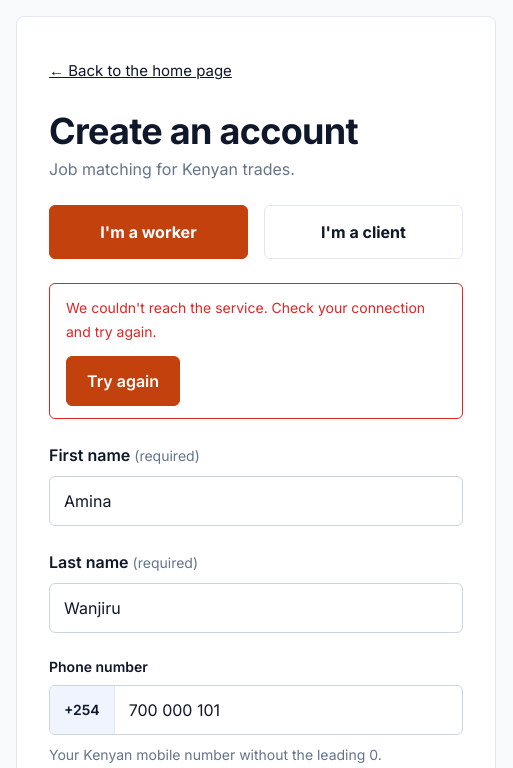
Test: when the service cannot be reached › offers Try again, which sends the same details once more
Earlier steps of the test are not shown.
Check: the message shows "We couldn't reach the service", box top-left (66, 299), bottom-right (425, 340)
What coordinates should you click on to do the following:
click the button "Try again"
I would click on:
 (123, 381)
Its box is top-left (66, 356), bottom-right (180, 406).
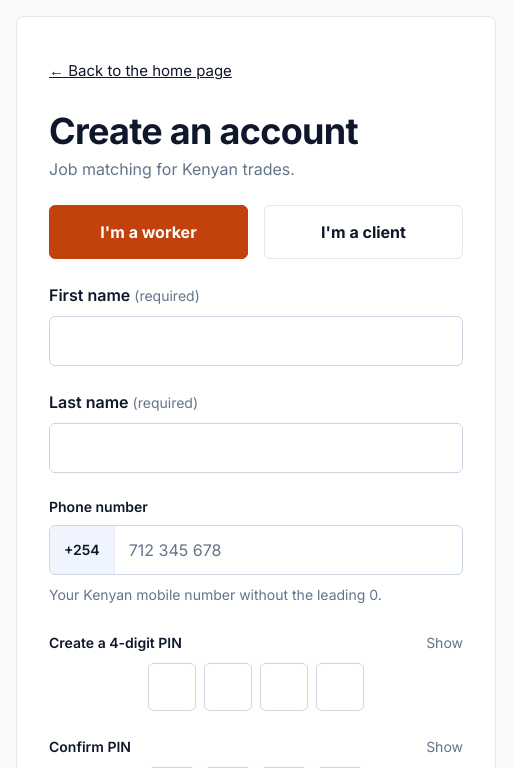
Check: the text "try again" is gone
